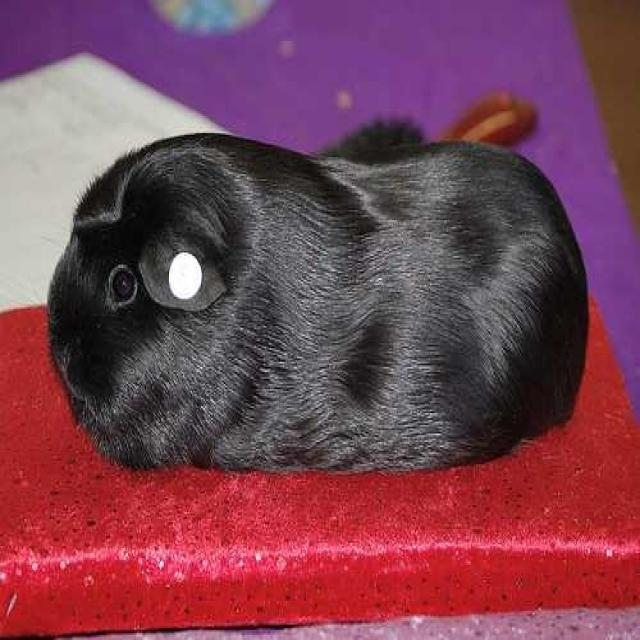guinea pig: (48, 138, 580, 473)
